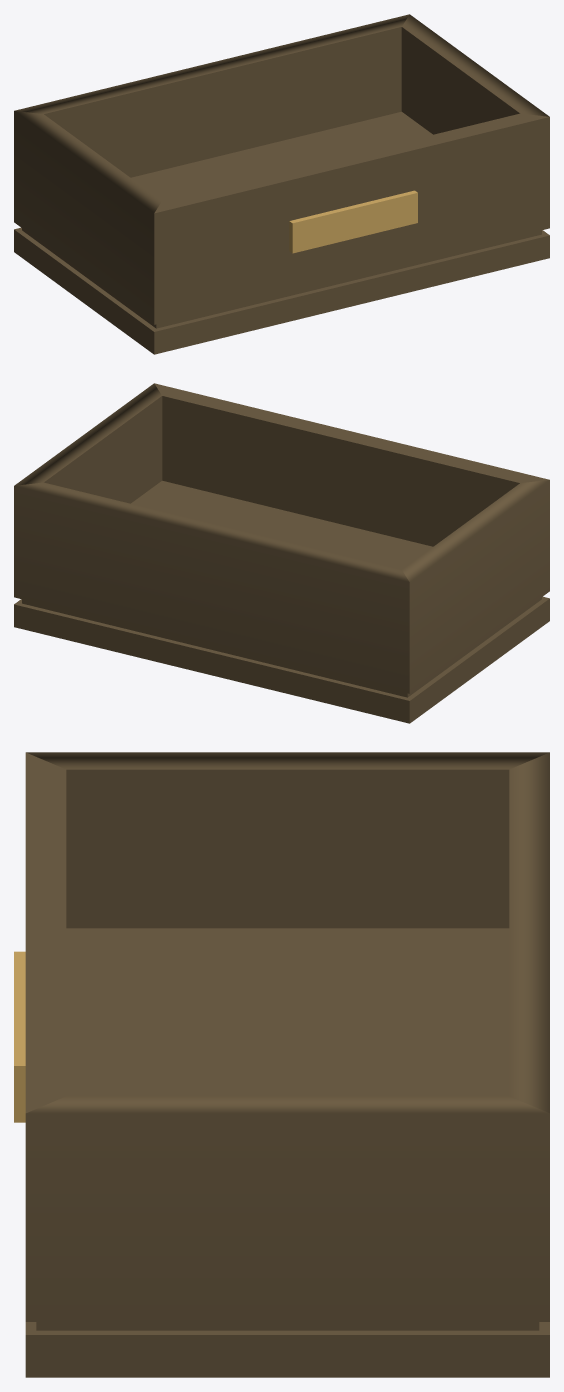
File: SM_Prop_Box_01_838.obj
3 views of the same model, one above another, from view 1: azimuth 30°, elevation 25°; view 2: azimuth 150°, elevation 25°; view 3: azimuth 270°, elevation 25° (orthographic). The views are drawn at different scales.
Visible parts, largest first — view 1: SM_Prop_Box_01_0; view 2: SM_Prop_Box_01_0; view 3: SM_Prop_Box_01_0.
Boxes of the visible parts, x1,y1,x2,y2 form: SM_Prop_Box_01_0: (14,14,549,354); SM_Prop_Box_01_0: (14,383,549,723); SM_Prop_Box_01_0: (14,752,549,1377).
Bounding box in the file's own units: 0.3483 × 0.1226 × 0.2185.
1 material, 1 textured.
